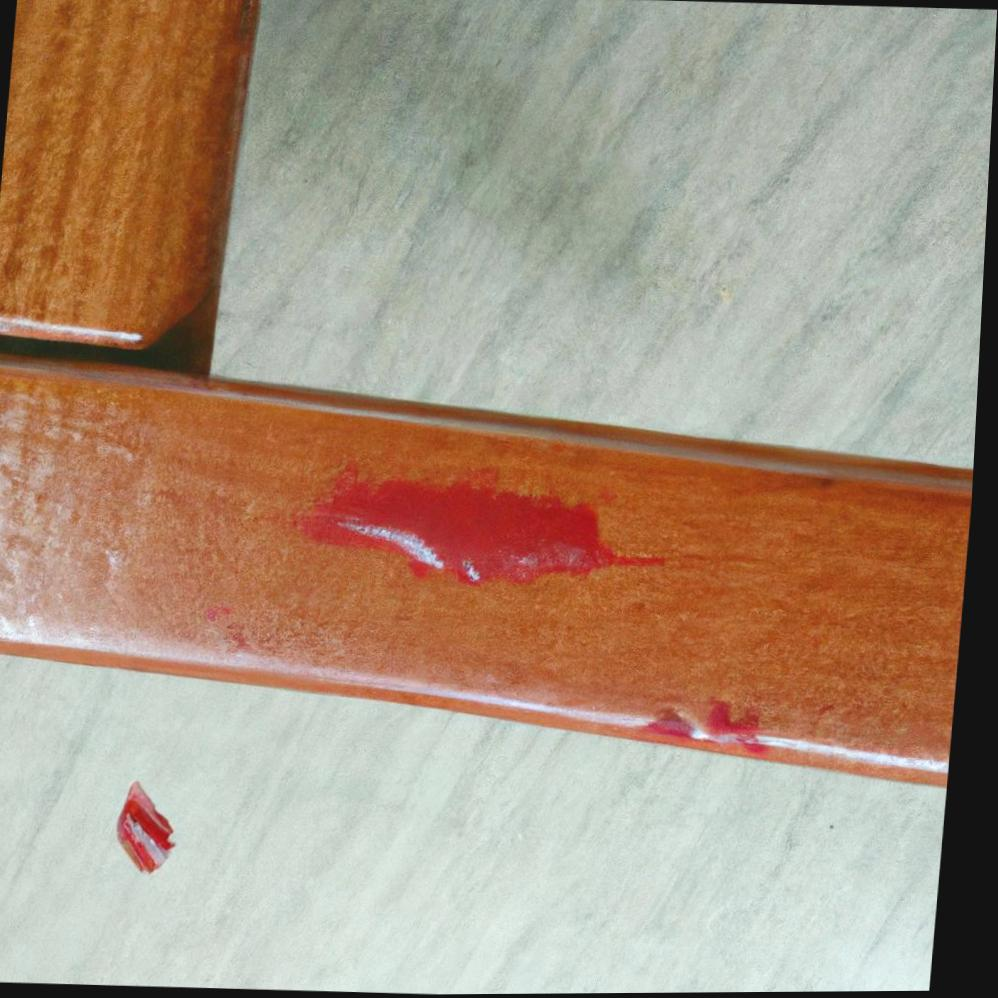Fire: (298, 462, 673, 587), (714, 699, 778, 757), (650, 711, 703, 742)
